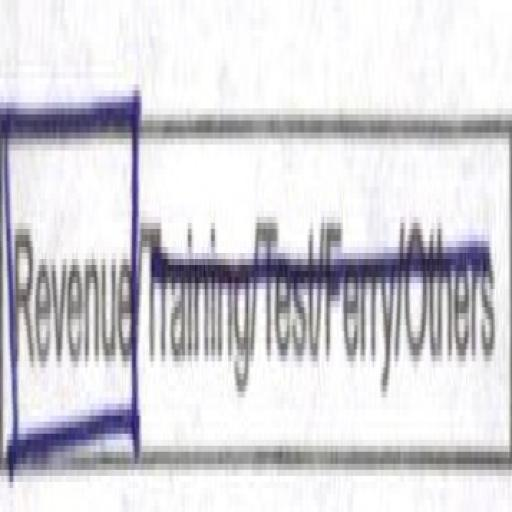check: (0, 22, 148, 488)
